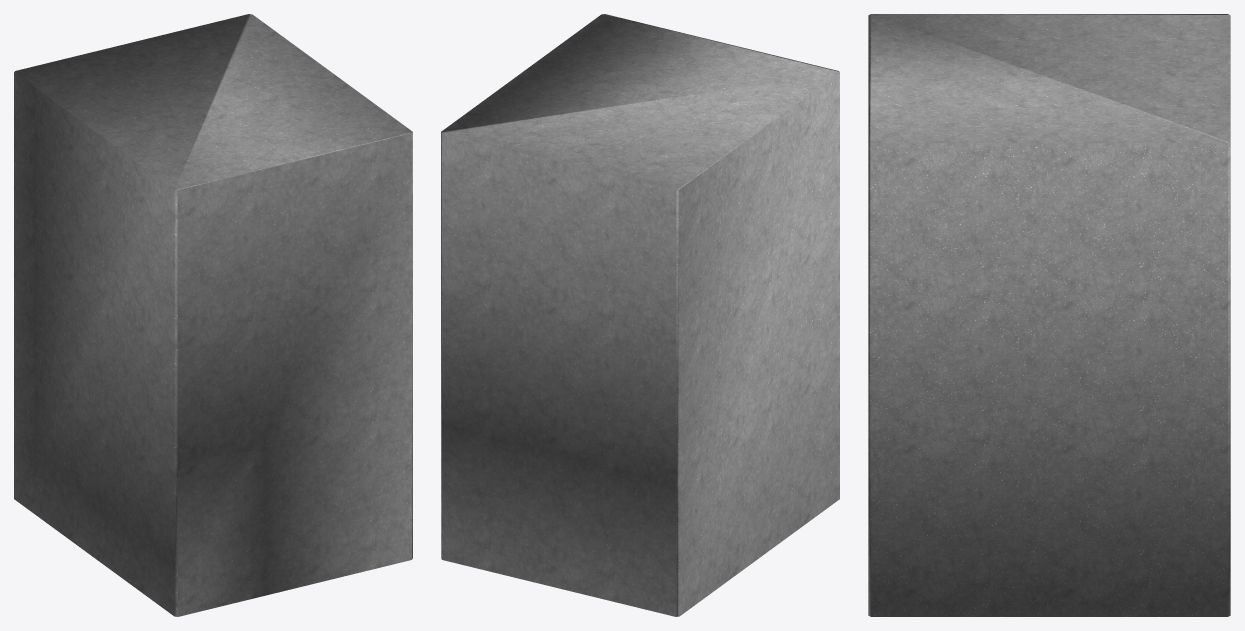
File: WPLLargePillar.fbx
3 views of the same model, side by side, from view 1: azimuth 30°, elevation 25°; view 2: azimuth 150°, elevation 25°; view 3: azimuth 270°, elevation 25° (orthographic). The views are drawn at different scales.
Visible parts, largest first — view 1: Large Pillar.Shape; view 2: Large Pillar.Shape; view 3: Large Pillar.Shape.
Part boxes in pixels (left/top/right/bottom): Large Pillar.Shape: left=14, top=14, right=412, bottom=616; Large Pillar.Shape: left=441, top=14, right=839, bottom=616; Large Pillar.Shape: left=868, top=14, right=1230, bottom=616.
Bounding box in the file's own units: 386 × 659 × 457.
1 material, 1 textured.
